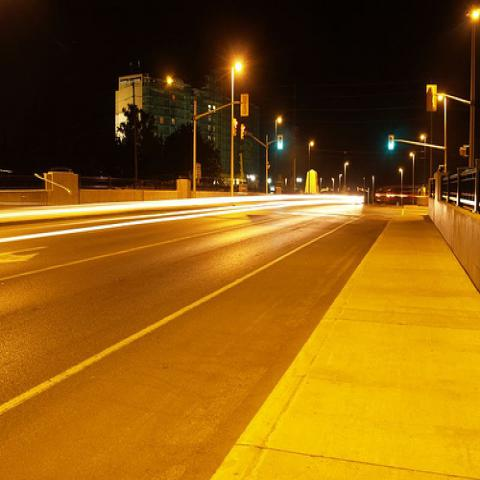car: (375, 188, 401, 206)
